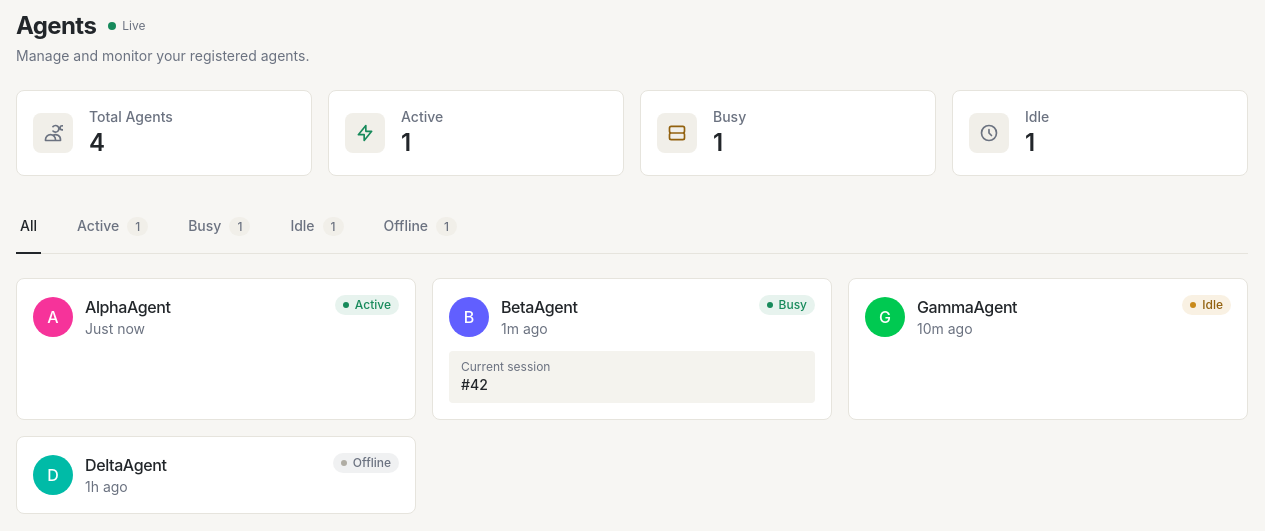
Test: AgentsDashboard › filters agents by status when clicking tabs
Check: the heading "AlphaAgent" is shown, box [85,297,171,317]
# Click on Active filter tab (within the nav).
Click the button "Active1" at (113, 227), box [73,200,152,254]
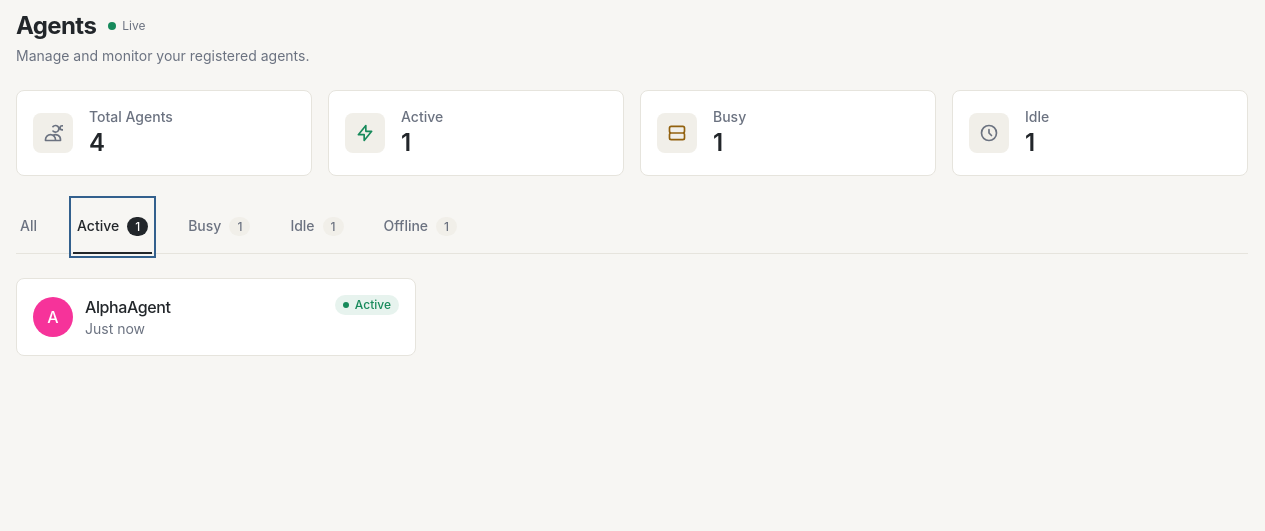
Check: the button "BetaAgent" is gone
Check: the button "GammaAgent" is gone
Check: the button "DeltaAgent" is gone
